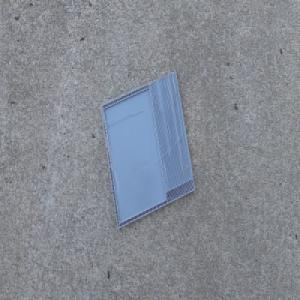PlasticPart: (99, 69, 196, 231)
